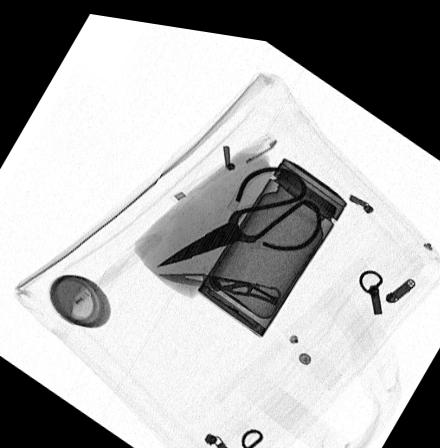Knife: (158, 266, 282, 298)
Scissors: (156, 157, 324, 260)
